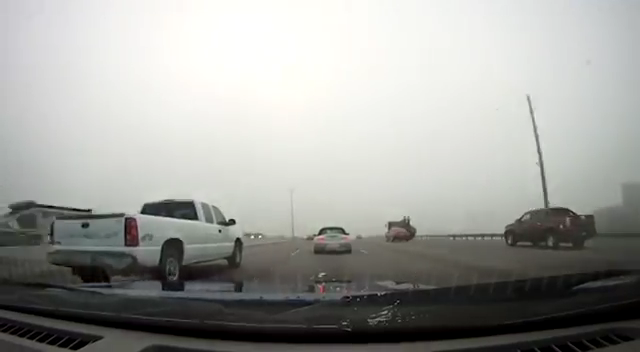bus: (1, 199, 96, 270)
car: (45, 198, 244, 285), (503, 206, 598, 248), (313, 226, 352, 254), (384, 227, 412, 241)
